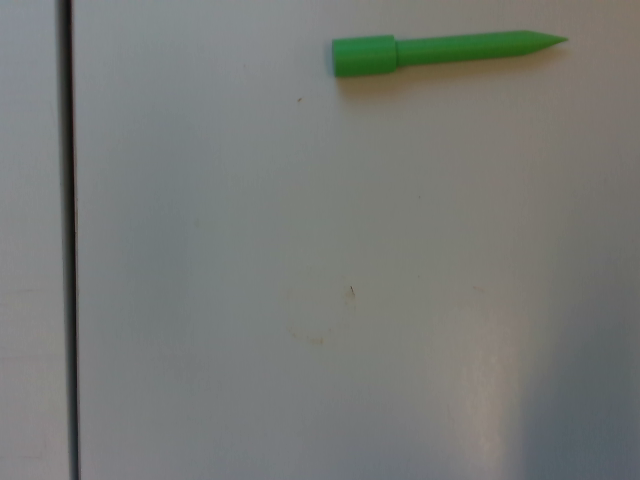Probe: (324, 26, 574, 82)
